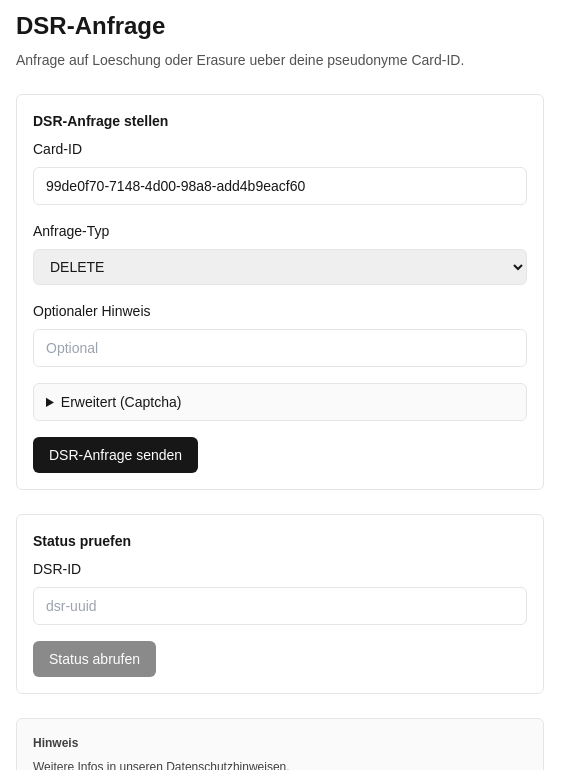
Scenario: PwaDsrPage › loads status by DSR id
In the field labelled "DSR-ID": (280, 606) [33,587,527,625], type "aaaaaaaa-bbbb-cccc-dddd-eeeeeeeeeeee"
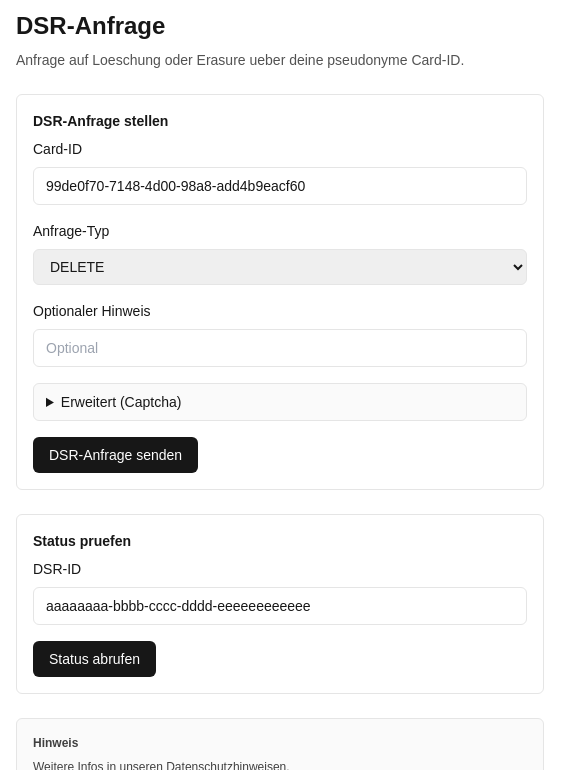
Click the button "Status abrufen": (95, 659) [33,641,156,677]
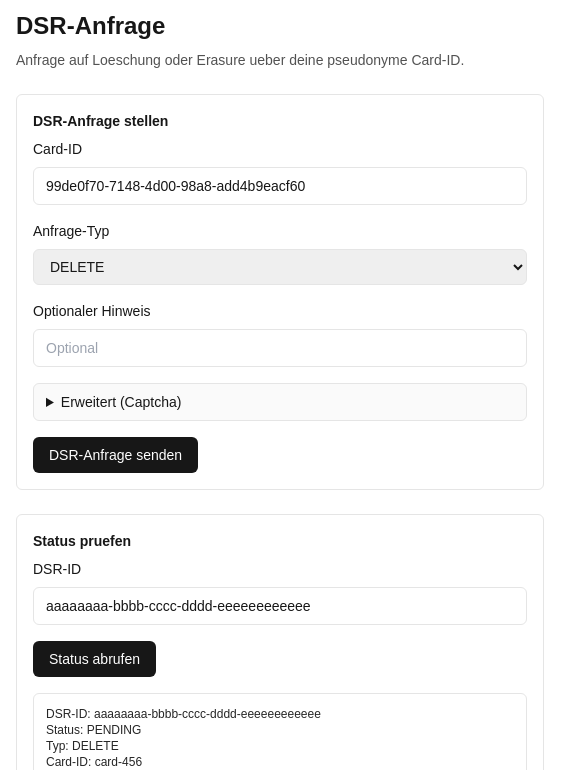
Check: the text "Status: PENDING" is shown, box [46,723,141,737]
Check: the text "Card-ID: card-456" is shown, box [46,755,142,769]
